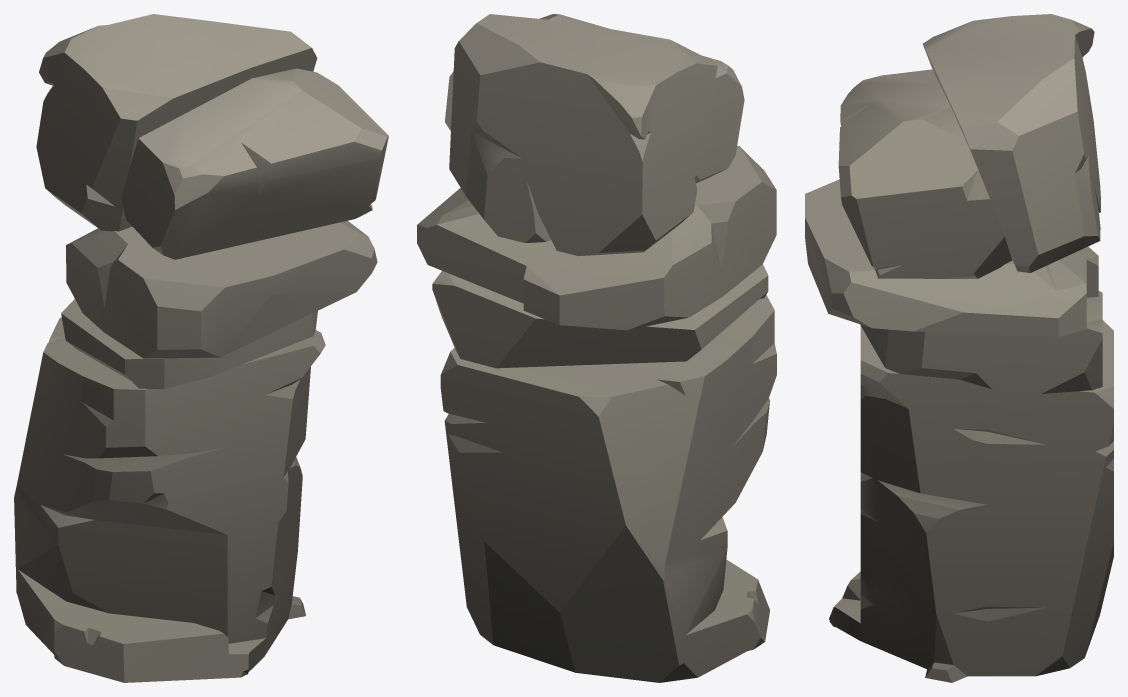
The model's file is Cliff_Vertical_3B.fbx.
3 renders of one model, left to right at view 1: azimuth 30°, elevation 25°; view 2: azimuth 150°, elevation 25°; view 3: azimuth 270°, elevation 25°, orthographic. The views are drawn at different scales.
Visible parts, largest first — view 1: Cliff_Vertical_3B; view 2: Cliff_Vertical_3B; view 3: Cliff_Vertical_3B.
Boxes of the visible parts, box(x1,y1,x2,y2) form: Cliff_Vertical_3B: box(14, 14, 388, 682); Cliff_Vertical_3B: box(417, 14, 776, 682); Cliff_Vertical_3B: box(805, 14, 1113, 682).
Bounding box in the file's own units: 1064 × 2024 × 976.
